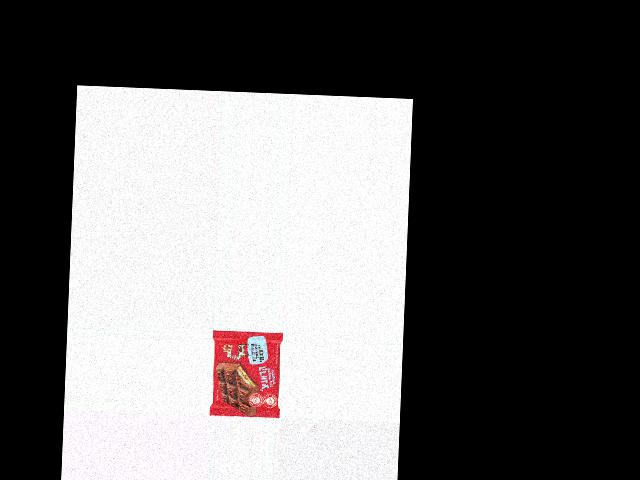chocolate: (210, 332, 283, 417)
